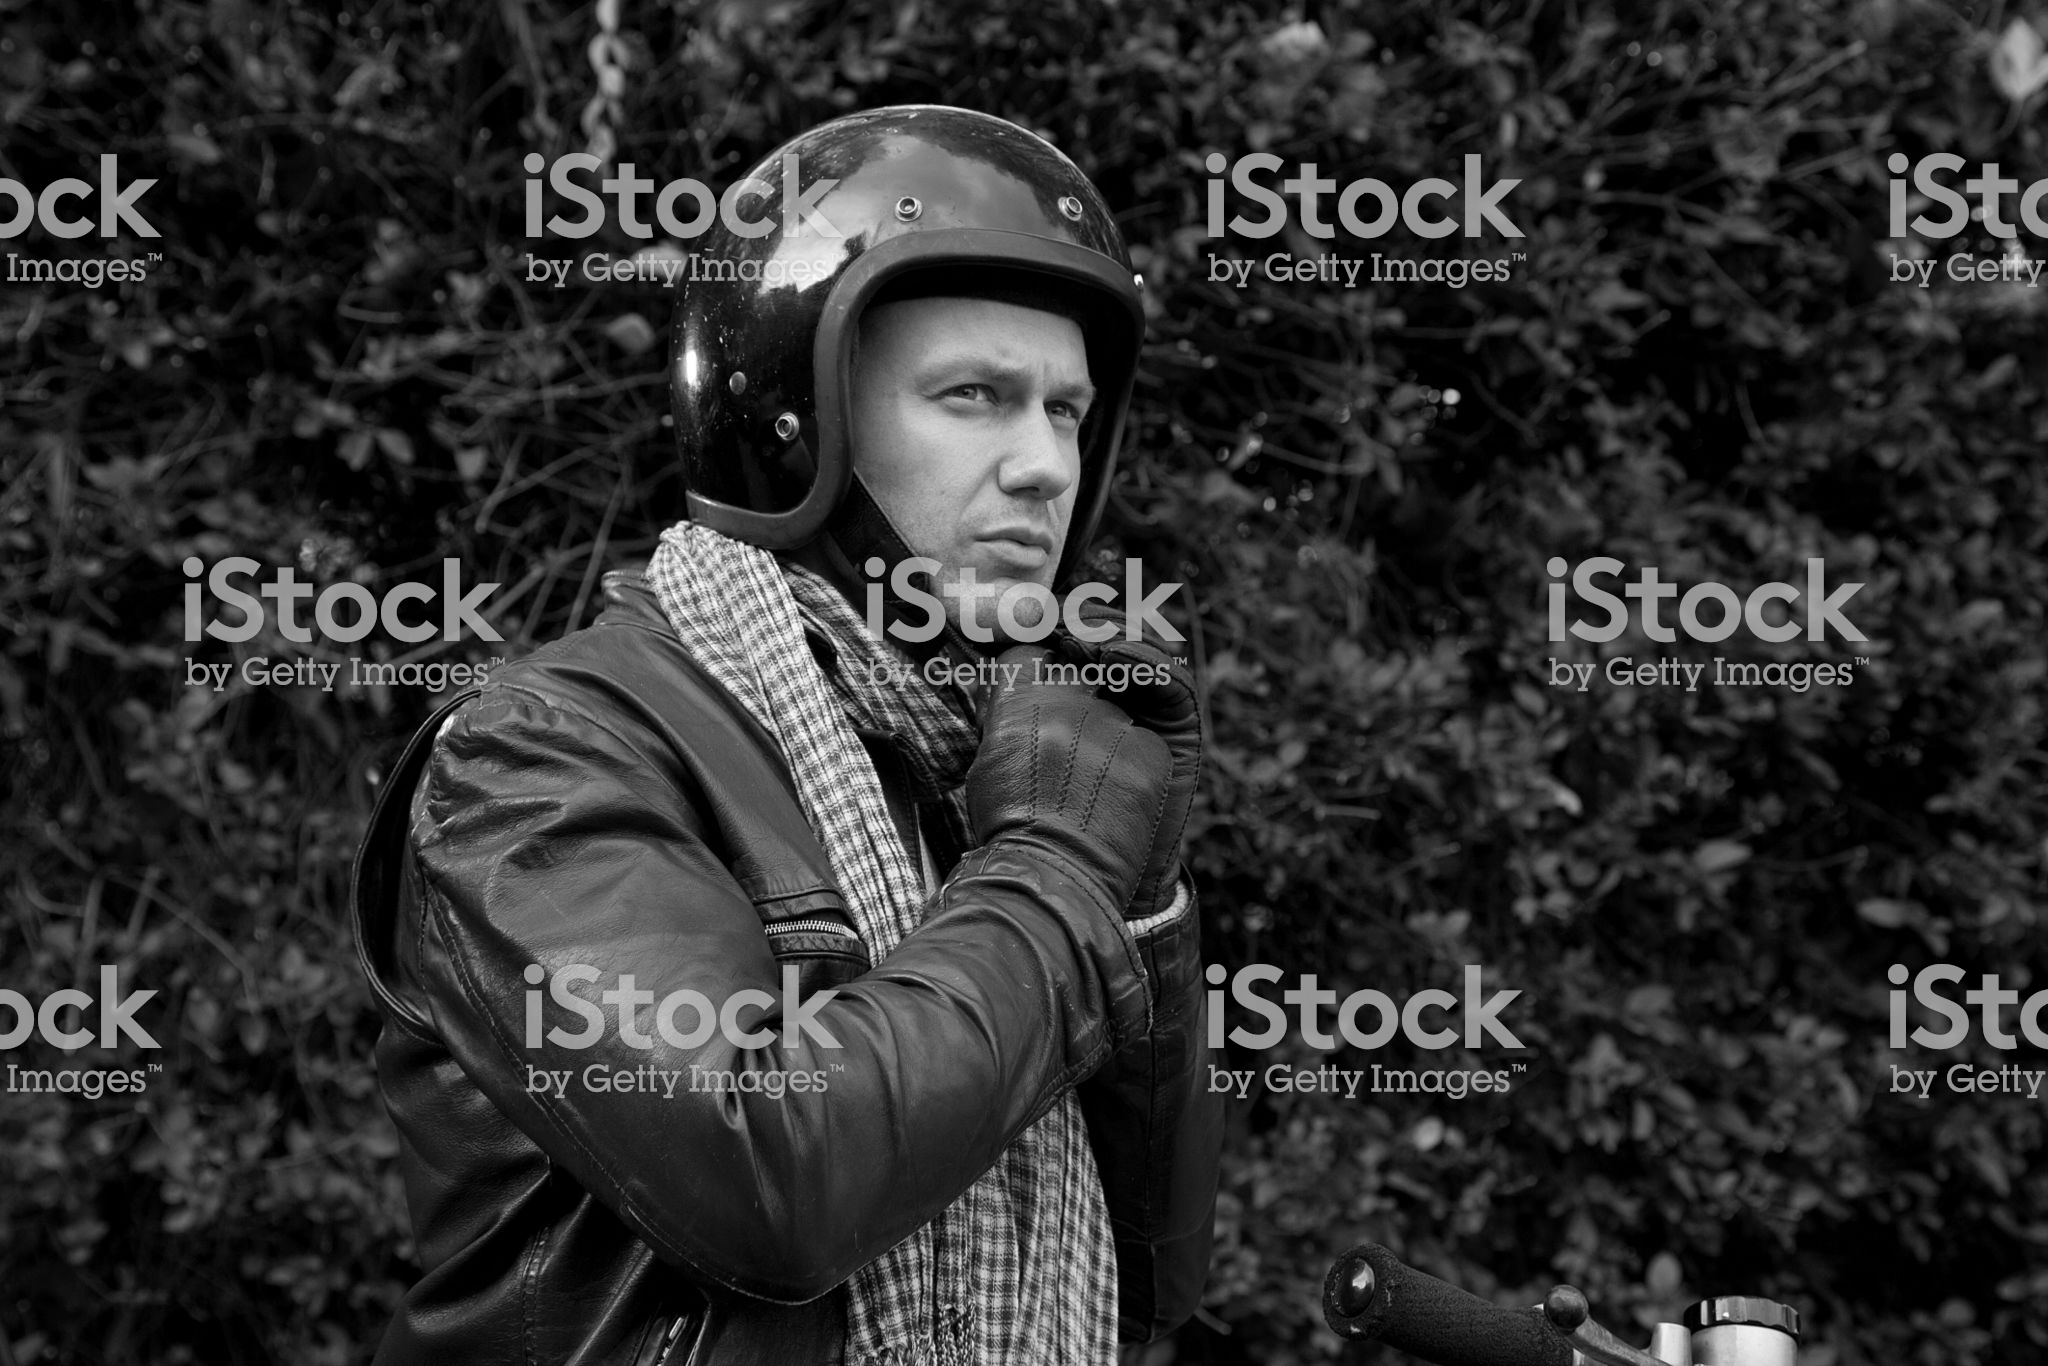helmet: (640, 114, 1190, 543)
